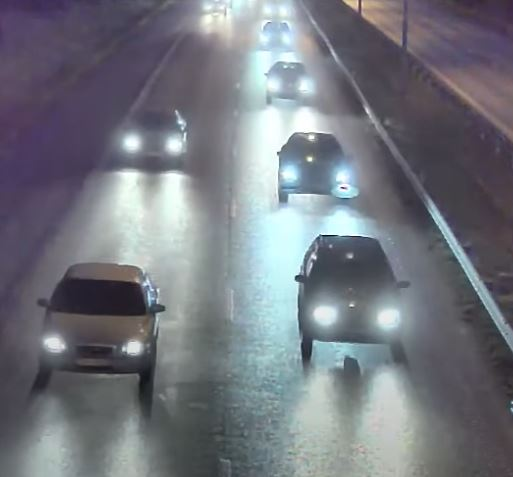Car: (37, 261, 161, 385), (296, 232, 409, 355), (278, 132, 355, 205), (119, 109, 189, 168), (264, 60, 312, 104)
